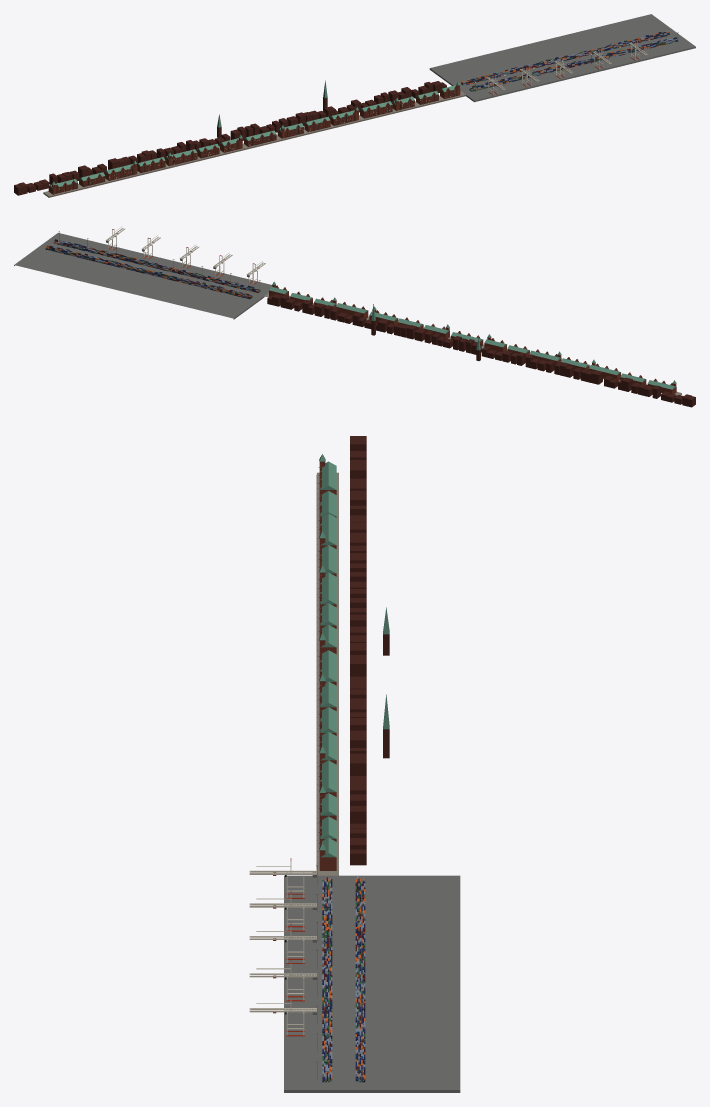
File: harbour.glb
3 renders of one model, top to bottom at view 1: azimuth 30°, elevation 25°; view 2: azimuth 150°, elevation 25°; view 3: azimuth 270°, elevation 25°, orthographic. The views are drawn at different scales.
Parts seen in each view (by area): view 1: Harbour; view 2: Harbour; view 3: Harbour.
Boxes of the visible parts, left/top/right/bottom form: Harbour: left=14, top=14, right=695, bottom=197; Harbour: left=14, top=226, right=695, bottom=407; Harbour: left=249, top=436, right=460, bottom=1092.
Size of the model in its own units: 2743 by 134 by 382.
